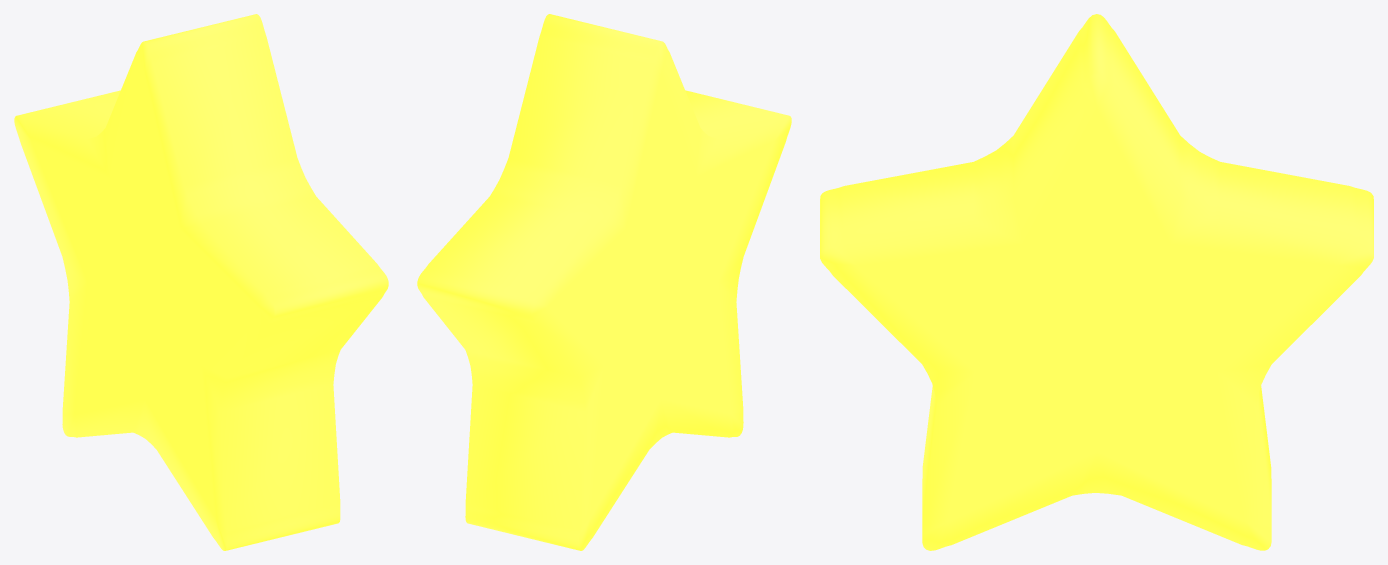
File: rotating_star.glb
The picture shows the model from 3 angles, left to right: view 1: azimuth 30°, elevation 25°; view 2: azimuth 150°, elevation 25°; view 3: azimuth 270°, elevation 25°; orthographic projection. The views are drawn at different scales.
Parts seen in each view (by area): view 1: Vert; view 2: Vert; view 3: Vert.
Part boxes in pixels (box(x1,y1,x2,y2)): Vert: box(14, 14, 388, 550); Vert: box(417, 14, 791, 550); Vert: box(820, 14, 1373, 550).
Bounding box in the file's own units: 0.32 × 1.22 × 1.28.
